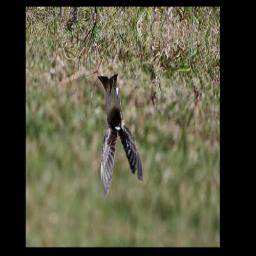Swallow: (89, 70, 150, 203)
